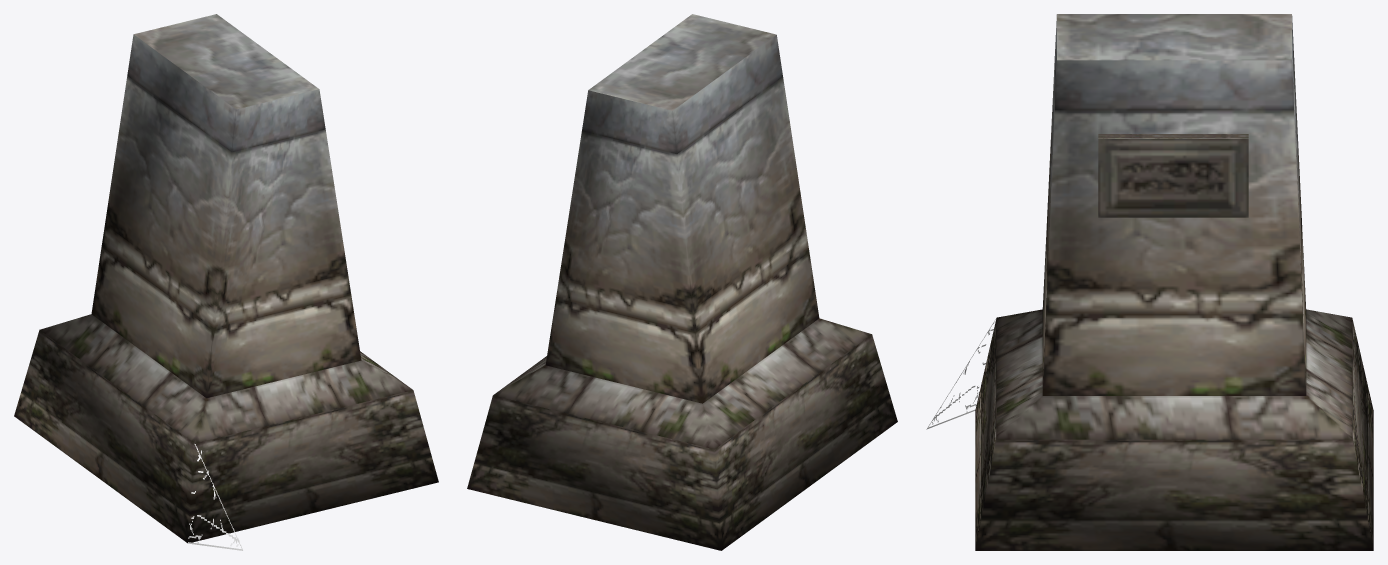
The model's file is tombstonemonument02.glb.
3 views of the same model, side by side, from view 1: azimuth 30°, elevation 25°; view 2: azimuth 150°, elevation 25°; view 3: azimuth 270°, elevation 25° (orthographic). The views are drawn at different scales.
Size of the model in its own units: 2.1 by 3.1 by 2.83.
Materials: 4 (4 with a texture image).
